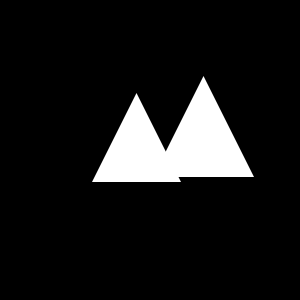triangle: (153, 76, 254, 177), (92, 93, 181, 182)
